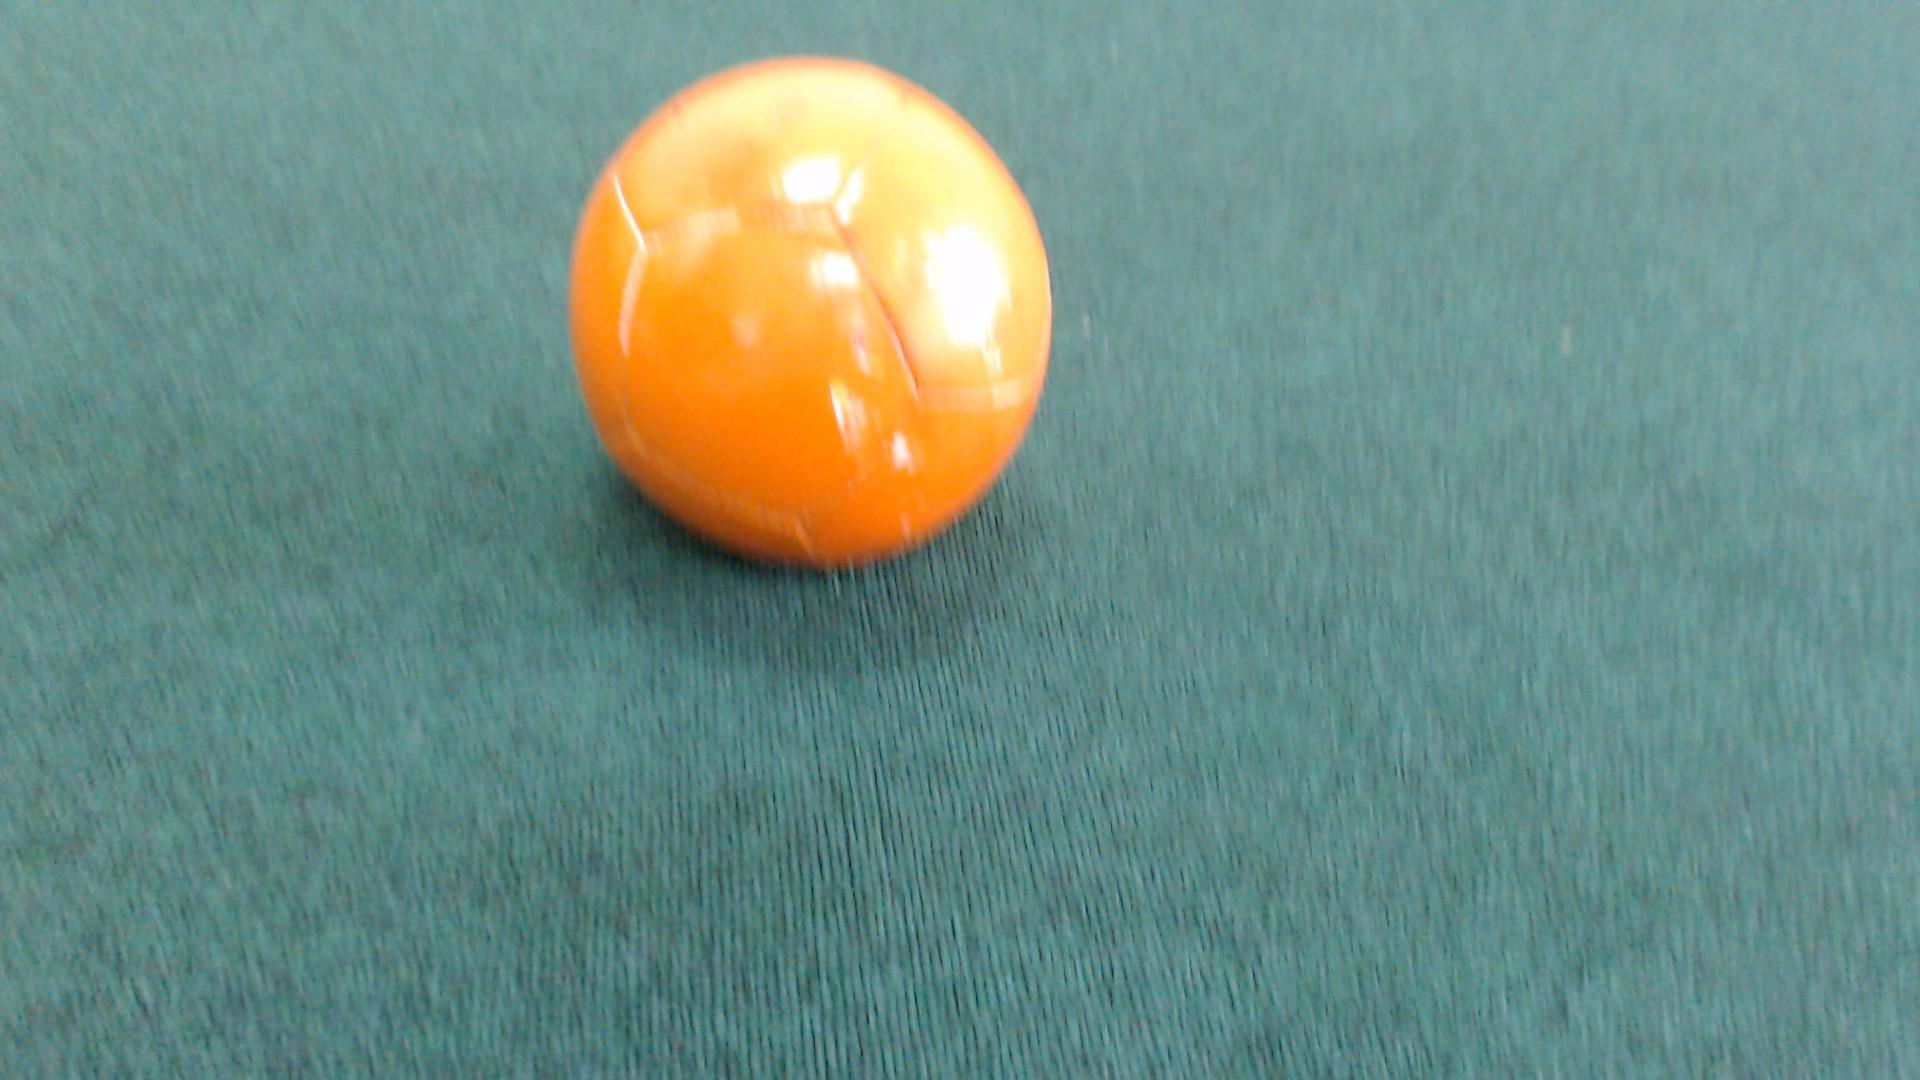bola: (534, 25, 1118, 612)
